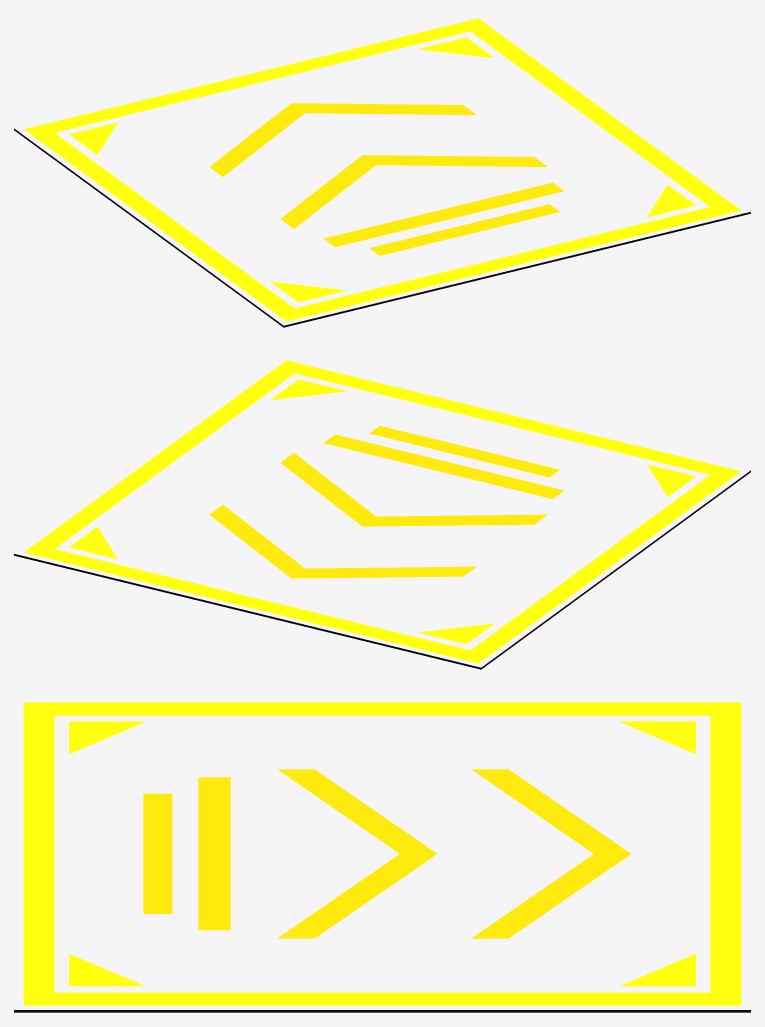
File: OVL_Arena_Warn_Boost.glb
3 views of the same model, one above another, from view 1: azimuth 30°, elevation 25°; view 2: azimuth 150°, elevation 25°; view 3: azimuth 270°, elevation 25° (orthographic). The views are drawn at different scales.
Visible parts, largest first — view 1: OVL_WarnBoost_AmberBorder, OVL_WarnBoost_PreviewArrows, OVL_WarnBoost_TurbinePreview, OVL_Carrier_WarnBoost; view 2: OVL_WarnBoost_AmberBorder, OVL_WarnBoost_PreviewArrows, OVL_WarnBoost_TurbinePreview, OVL_Carrier_WarnBoost; view 3: OVL_WarnBoost_AmberBorder, OVL_WarnBoost_PreviewArrows, OVL_WarnBoost_TurbinePreview, OVL_Carrier_WarnBoost.
Boxes of the visible parts, box(x1,y1,x2,y2) form: OVL_WarnBoost_AmberBorder: box(24, 18, 740, 321); OVL_WarnBoost_PreviewArrows: box(209, 103, 547, 228); OVL_WarnBoost_TurbinePreview: box(323, 182, 564, 255); OVL_Carrier_WarnBoost: box(14, 128, 750, 327); OVL_WarnBoost_AmberBorder: box(24, 360, 740, 663); OVL_WarnBoost_PreviewArrows: box(209, 453, 547, 578); OVL_WarnBoost_TurbinePreview: box(323, 426, 564, 498); OVL_Carrier_WarnBoost: box(14, 470, 750, 669); OVL_WarnBoost_AmberBorder: box(23, 702, 741, 1005); OVL_WarnBoost_PreviewArrows: box(277, 769, 630, 938); OVL_WarnBoost_TurbinePreview: box(143, 777, 230, 930); OVL_Carrier_WarnBoost: box(14, 1010, 750, 1012).
Size of the model in its own units: 11.4 by 0.05 by 11.4.
3 materials, 3 textured.
